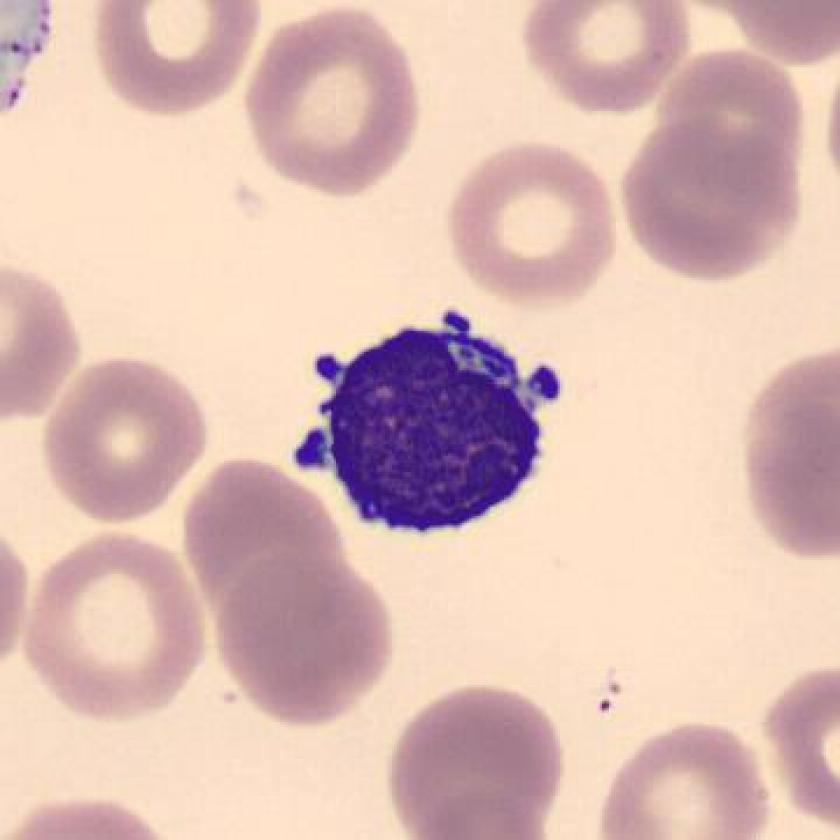lymphocyte: (281, 295, 580, 556)
